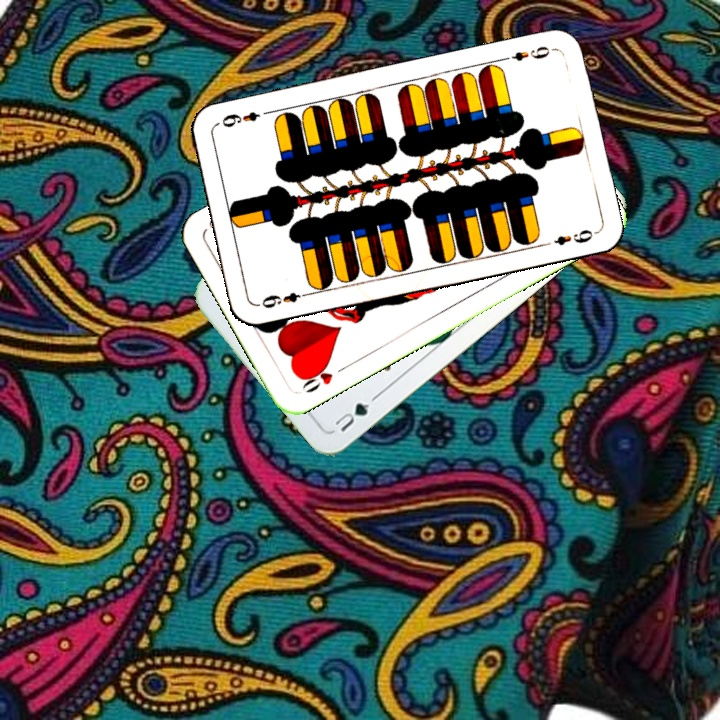E9: (255, 288, 314, 311), (499, 42, 557, 64)
GU: (329, 398, 373, 435)
HO: (296, 359, 350, 396)
